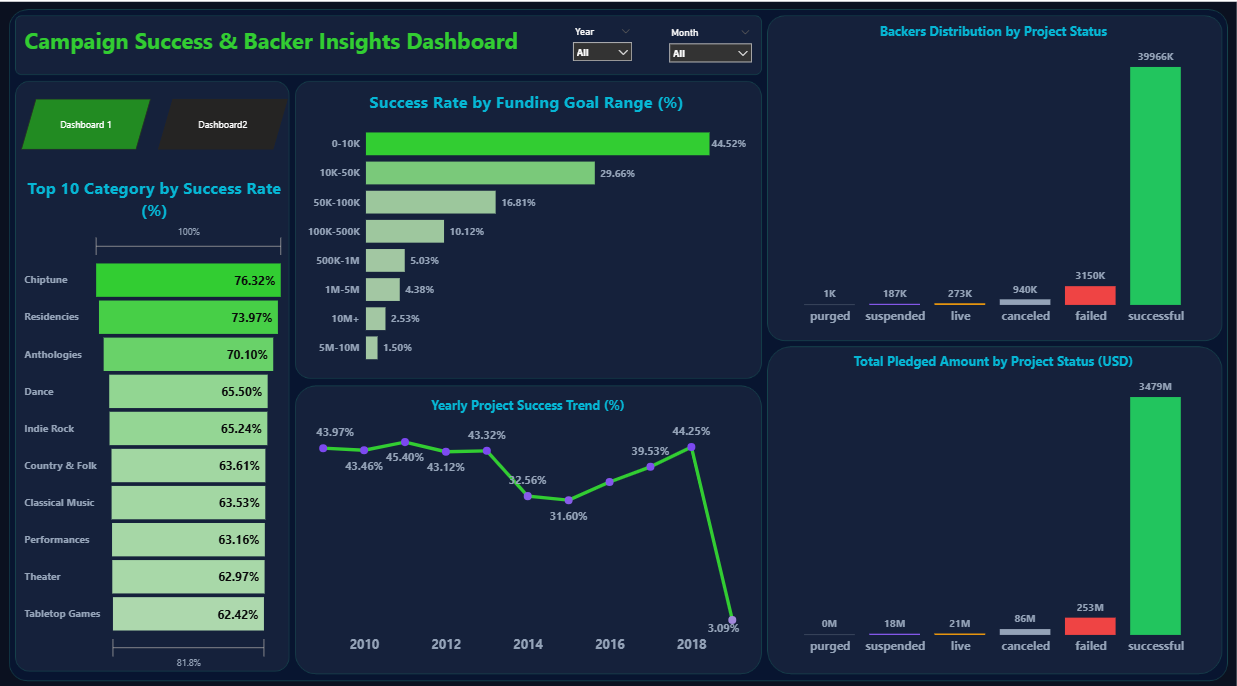

The dashboard page shown, as its layout file describes it:
{"tool":"powerbi","page":{"name":"Dashboard2","canvas":[2000,1100],"ordinal":1},"visuals":[{"type":"funnel","title":"Top 10 Category by Success Rate (%)","fields":{"Category":["Category.name"],"Y":["Main.Overall percentage successful"]},"box":[130,300,388,724],"z":0},{"type":"lineChart","title":"Yearly Project Success Trend (%)","fields":{"Y":["Main.Overall percentage successful"],"Category":["Date.Year"]},"box":[543.6,620,649.1,383.6],"z":1000},{"type":"clusteredBarChart","title":"Success Rate by Funding Goal Range (%)","fields":{"Category":["Main.goal (groups)"],"Y":["Main.Overall percentage successful"]},"box":[541.8,174.5,649.1,414.5],"z":2000},{"type":"clusteredColumnChart","title":"Backers Distribution by Project Status","fields":{"Category":["Main.state"],"Y":["Sum(Main.backers_count)"]},"box":[1228,76,636,448],"z":3000},{"type":"clusteredColumnChart","title":"Total Pledged Amount by Project Status (USD)","fields":{"Category":["Main.state"],"Y":["Sum(Main.usd_pledged)"]},"box":[1228,556,636,448],"z":4000},{"type":"textbox","box":[130.9,76.4,763.6,63.6],"z":5000},{"type":"slicer","fields":{"Values":["Date.Date.Variation.Date Hierarchy.Year"]},"box":[924,76,106,64],"z":6000},{"type":"slicer","fields":{"Values":["Date.Date.Variation.Date Hierarchy.Month"]},"box":[1064,78,140,62],"z":7000},{"type":"pageNavigator","box":[130,188,388,74],"z":8000}]}

Visuals, with their boxes in screenshot pixels (x1, y1, x2, y2), scaled from the page's 2000x1100 canvas onto the 1237x686 screenshot:
"Top 10 Category by Success Rate (%)" funnel: x1=80 y1=187 x2=320 y2=639
"Yearly Project Success Trend (%)" lineChart: x1=336 y1=387 x2=738 y2=626
"Success Rate by Funding Goal Range (%)" clusteredBarChart: x1=335 y1=109 x2=737 y2=367
"Backers Distribution by Project Status" clusteredColumnChart: x1=760 y1=47 x2=1153 y2=327
"Total Pledged Amount by Project Status (USD)" clusteredColumnChart: x1=760 y1=347 x2=1153 y2=626
textbox: x1=81 y1=48 x2=553 y2=87
slicer - Date.Date.Variation.Date Hierarchy.Year: x1=571 y1=47 x2=637 y2=87
slicer - Date.Date.Variation.Date Hierarchy.Month: x1=658 y1=49 x2=745 y2=87
pageNavigator: x1=80 y1=117 x2=320 y2=163
